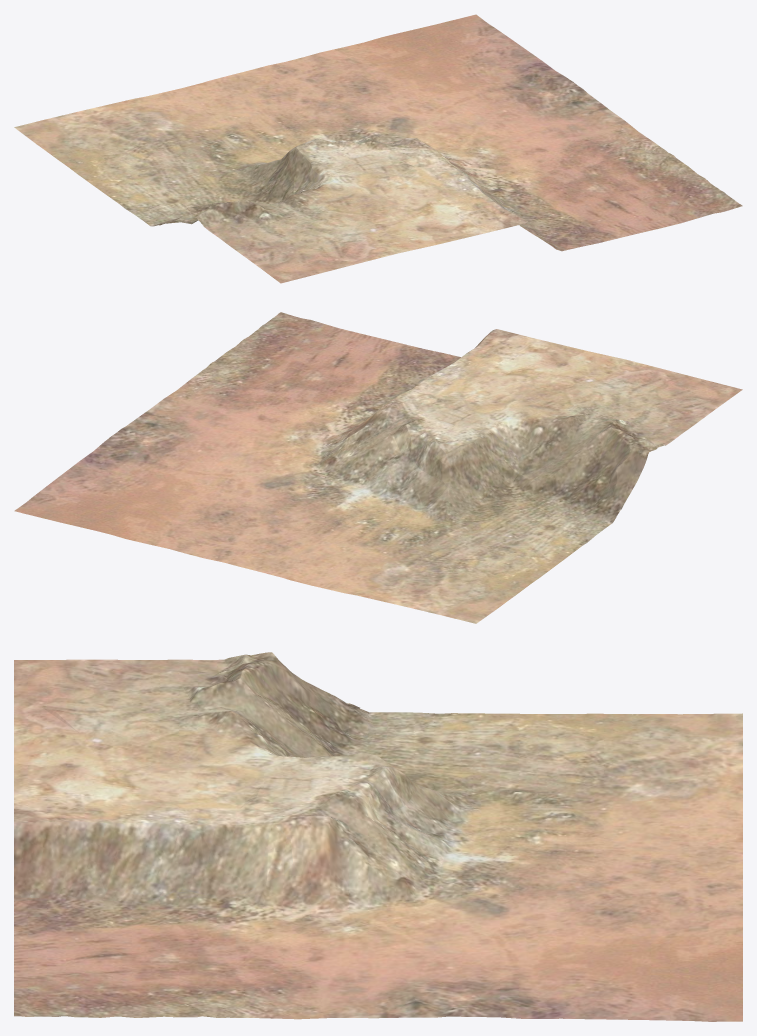
The model's file is Tile__005__007_L21_0001100.glb.
3 renders of one model, top to bottom at view 1: azimuth 30°, elevation 25°; view 2: azimuth 150°, elevation 25°; view 3: azimuth 270°, elevation 25°, orthographic. The views are drawn at different scales.
Parts seen in each view (by area): view 1: root; view 2: root; view 3: root.
Part boxes in pixels (left/top/right/bottom): root: left=14, top=14, right=742, bottom=283; root: left=14, top=312, right=742, bottom=623; root: left=14, top=652, right=742, bottom=1021.
Bounding box in the file's own units: 25.63 × 2.77 × 25.63.
Materials: 1 (1 with a texture image).
